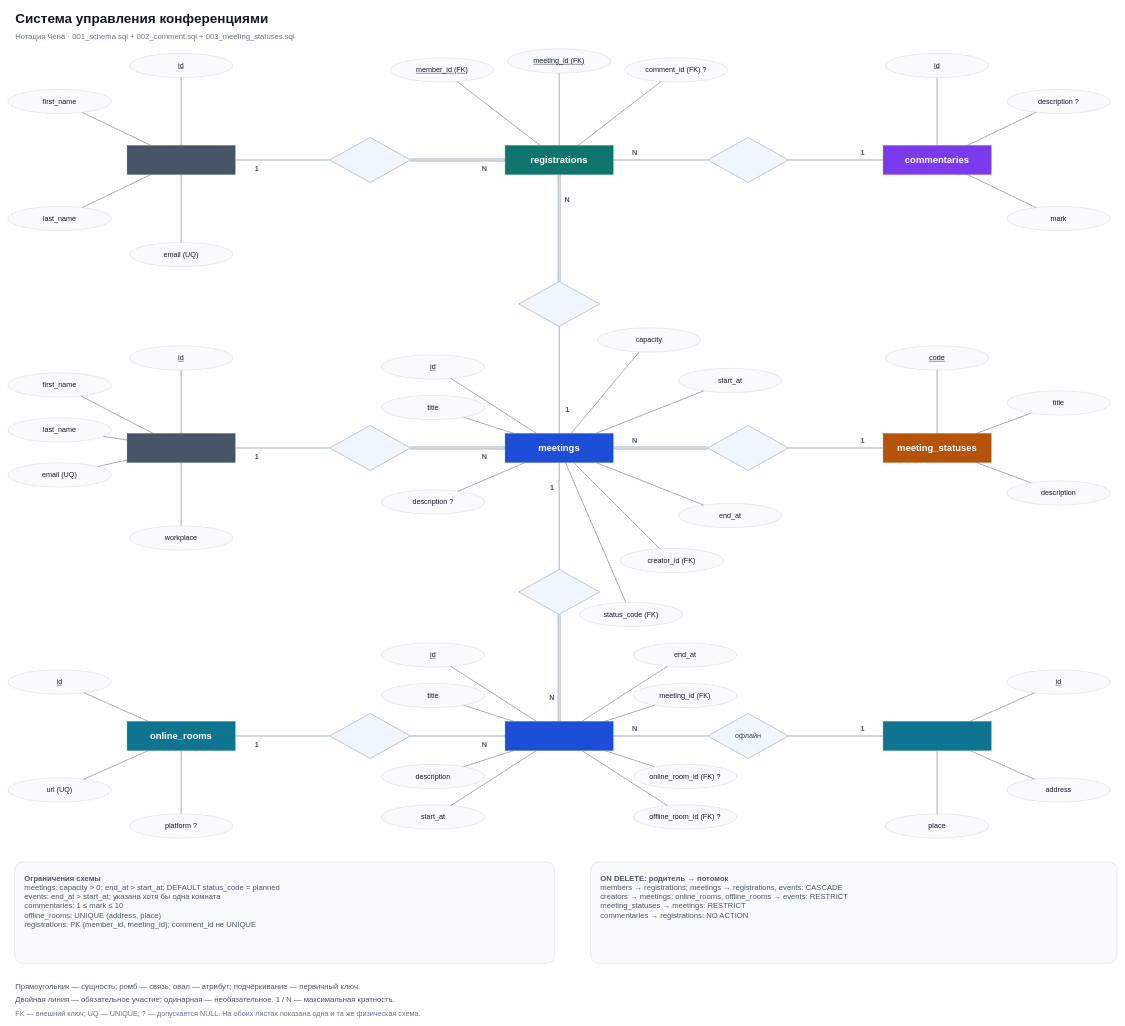
This 1125x1026 diagram has some shape labels left out. Here are the shapes that lost their labels. From the top down, the centre of each, then its label:
[181,159]: members
[370,160]: регистрируется
[748,160]: отзыв
[559,304]: регистрация
[181,447]: creators
[370,448]: организует
[748,448]: имеет статус
[559,592]: содержит
[370,736]: онлайн
[559,735]: events
[937,735]: offline_rooms
